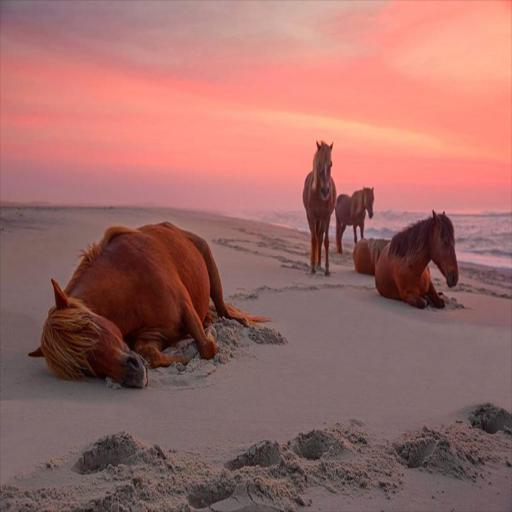horse: (26, 216, 274, 392), (374, 209, 459, 309), (300, 136, 338, 275), (334, 185, 374, 257), (351, 236, 390, 278)
